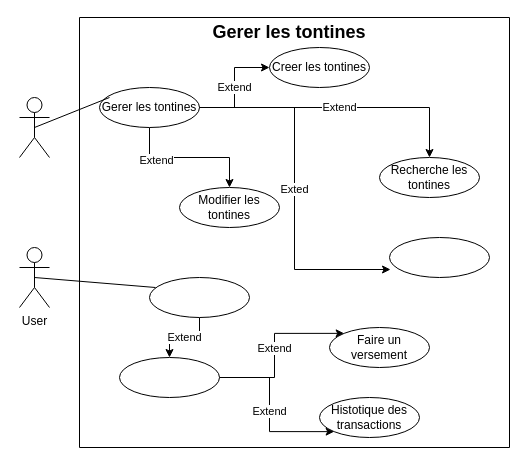
The diagram is 527 pixels wide and 465 high, and some of its shapes have lost their labels. Here are the shapes that lost their labels. From the top down, the centre of each, then its label:
(34,127): Admin
(439,257): Supprimer les tontines
(199,297): Tontiner
(169,377): Selectionner le produit
